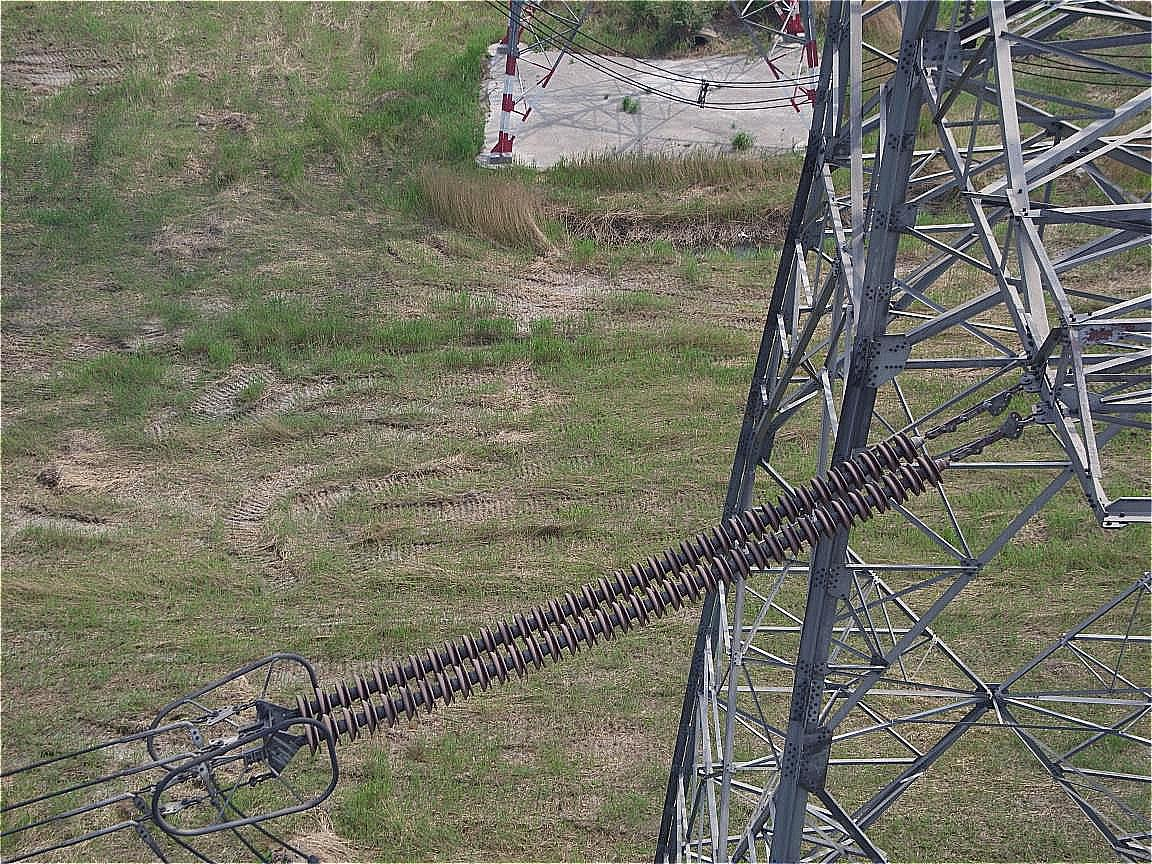insultor2: (252, 429, 971, 777)
